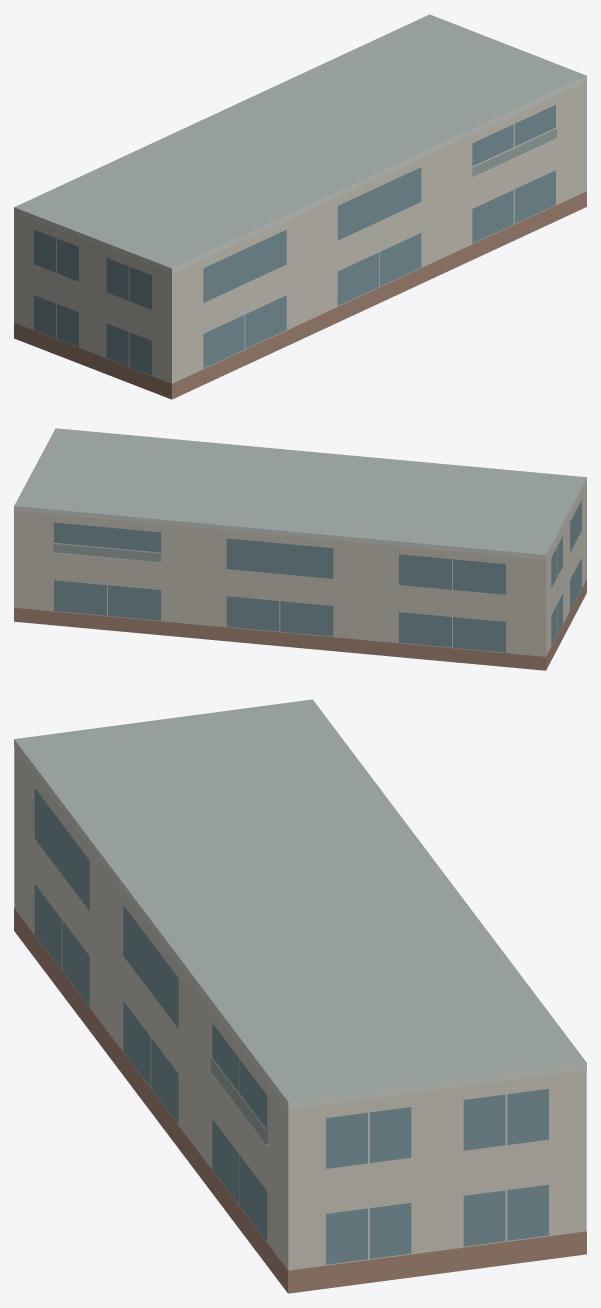
File: survey-upis-32909723.glb
The picture shows the model from 3 angles, top to bottom: view 1: azimuth 30°, elevation 25°; view 2: azimuth 150°, elevation 25°; view 3: azimuth 270°, elevation 25°; orthographic projection. The views are drawn at different scales.
Parts seen in each view (by area): view 1: survey-upis-32909723.tmp; view 2: survey-upis-32909723.tmp; view 3: survey-upis-32909723.tmp.
Part boxes in pixels (left/top/right/bottom): survey-upis-32909723.tmp: left=14, top=14, right=586, bottom=399; survey-upis-32909723.tmp: left=14, top=428, right=586, bottom=670; survey-upis-32909723.tmp: left=14, top=699, right=586, bottom=1293.
Bounding box in the file's own units: 27.49 × 6.1 × 16.53.
